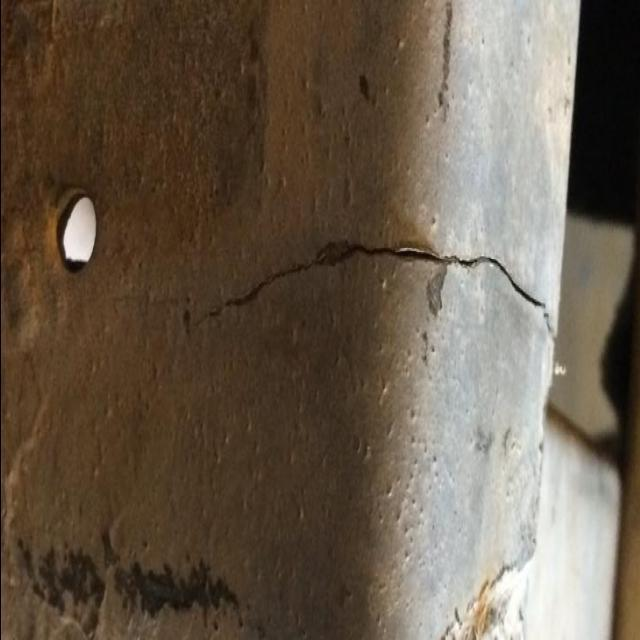Crack: (191, 233, 555, 347), (435, 559, 521, 640)
